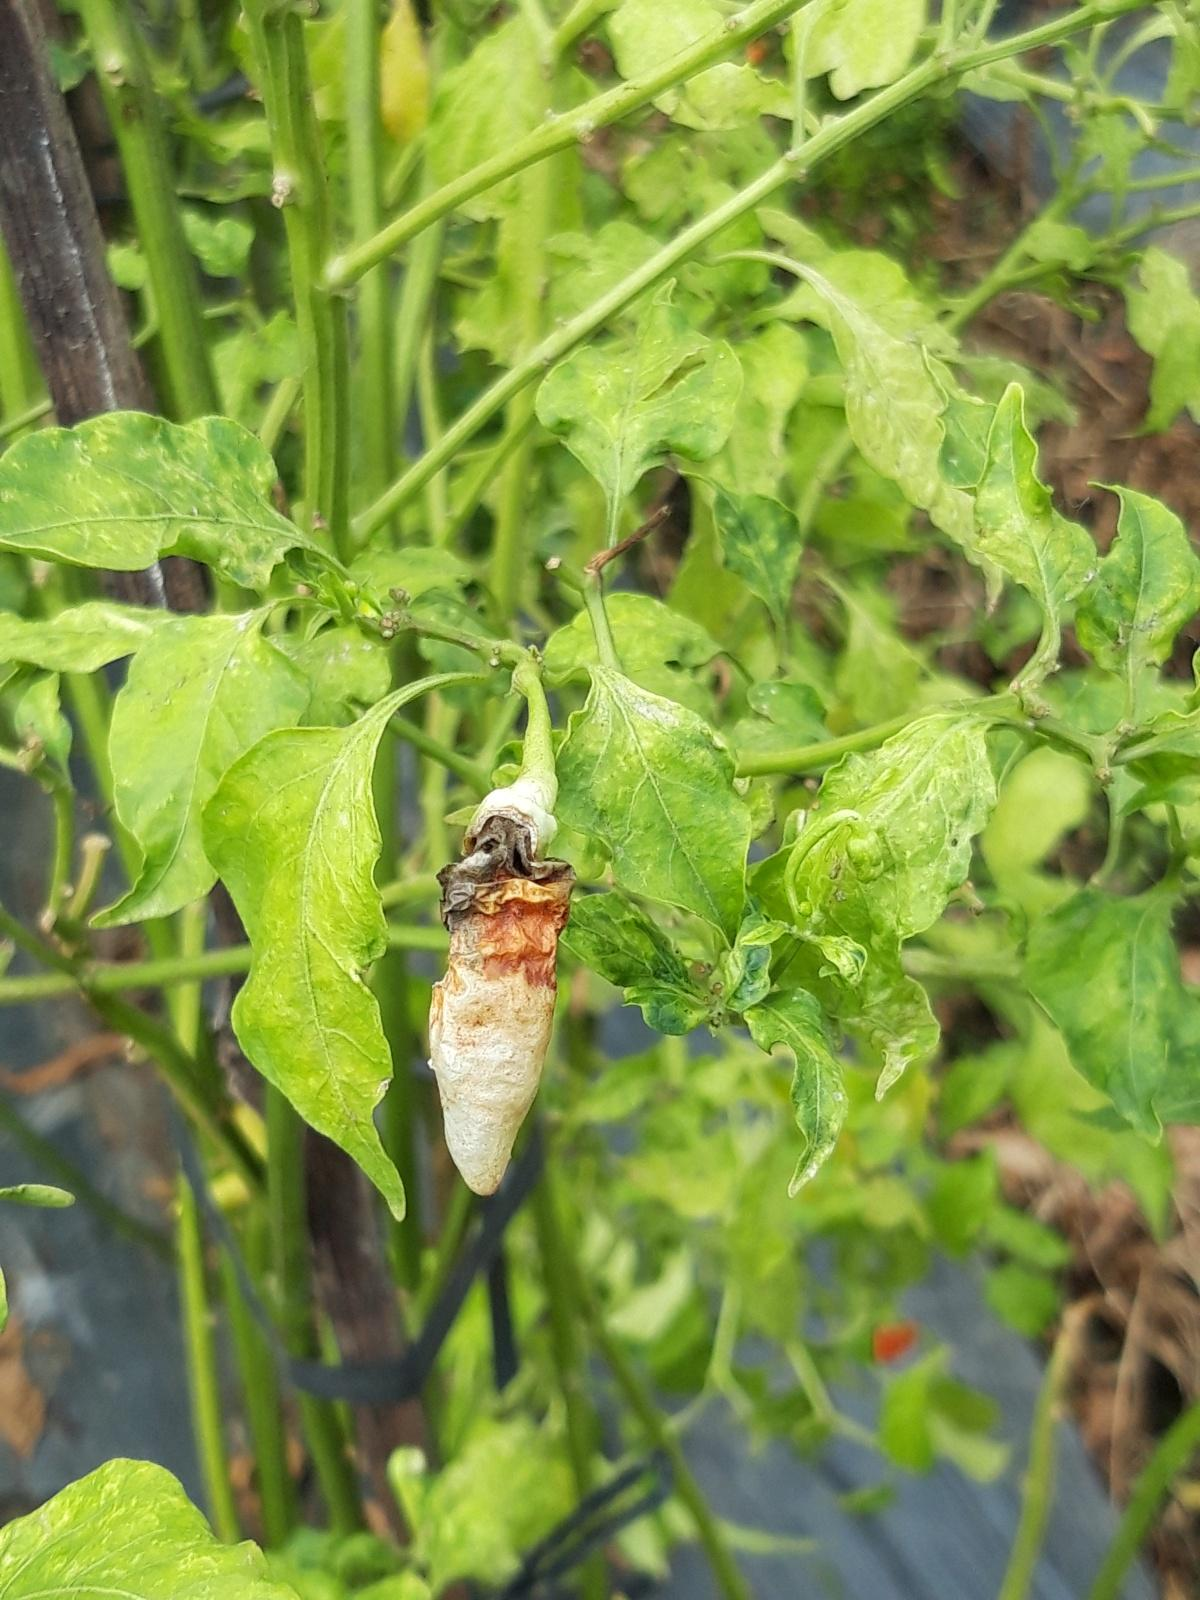antraknosa: (426, 791, 577, 1196)
